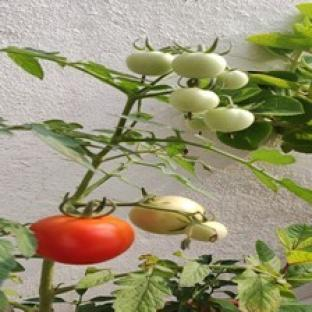Tomato: (31, 215, 133, 264), (130, 197, 204, 233), (172, 52, 227, 79), (169, 88, 220, 112), (204, 108, 254, 132), (126, 52, 174, 76), (187, 222, 227, 242), (218, 70, 249, 89), (186, 115, 210, 132)
